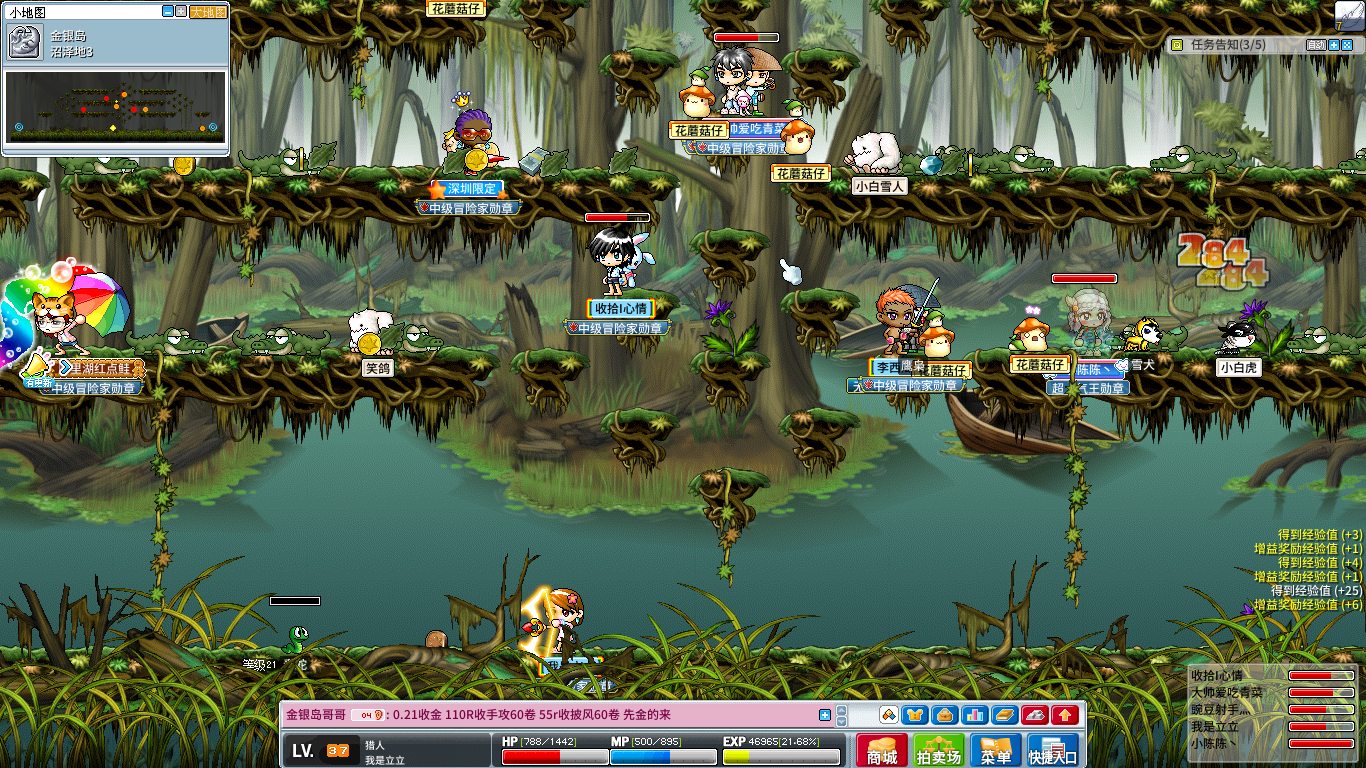monster: (281, 626, 310, 654)
